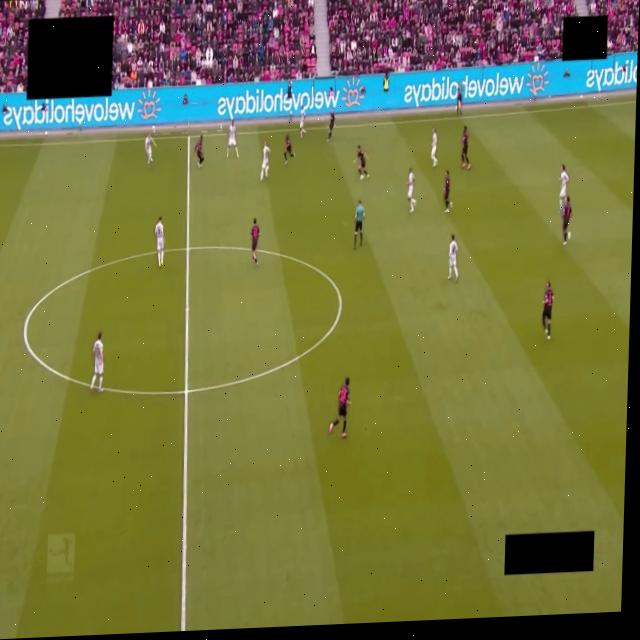ball: (266, 165, 269, 170)
player: (329, 377, 350, 438), (90, 332, 103, 392), (542, 282, 553, 340), (155, 217, 164, 268), (559, 165, 568, 214), (562, 196, 571, 245), (448, 235, 457, 282), (226, 120, 237, 157), (357, 145, 368, 180), (251, 219, 259, 267), (260, 141, 269, 181), (461, 126, 469, 170), (443, 171, 451, 212), (408, 168, 415, 212), (144, 136, 154, 164), (284, 134, 293, 164), (195, 135, 203, 168), (326, 109, 334, 141), (431, 128, 437, 167), (300, 105, 305, 138)
referee: (353, 200, 364, 249)
